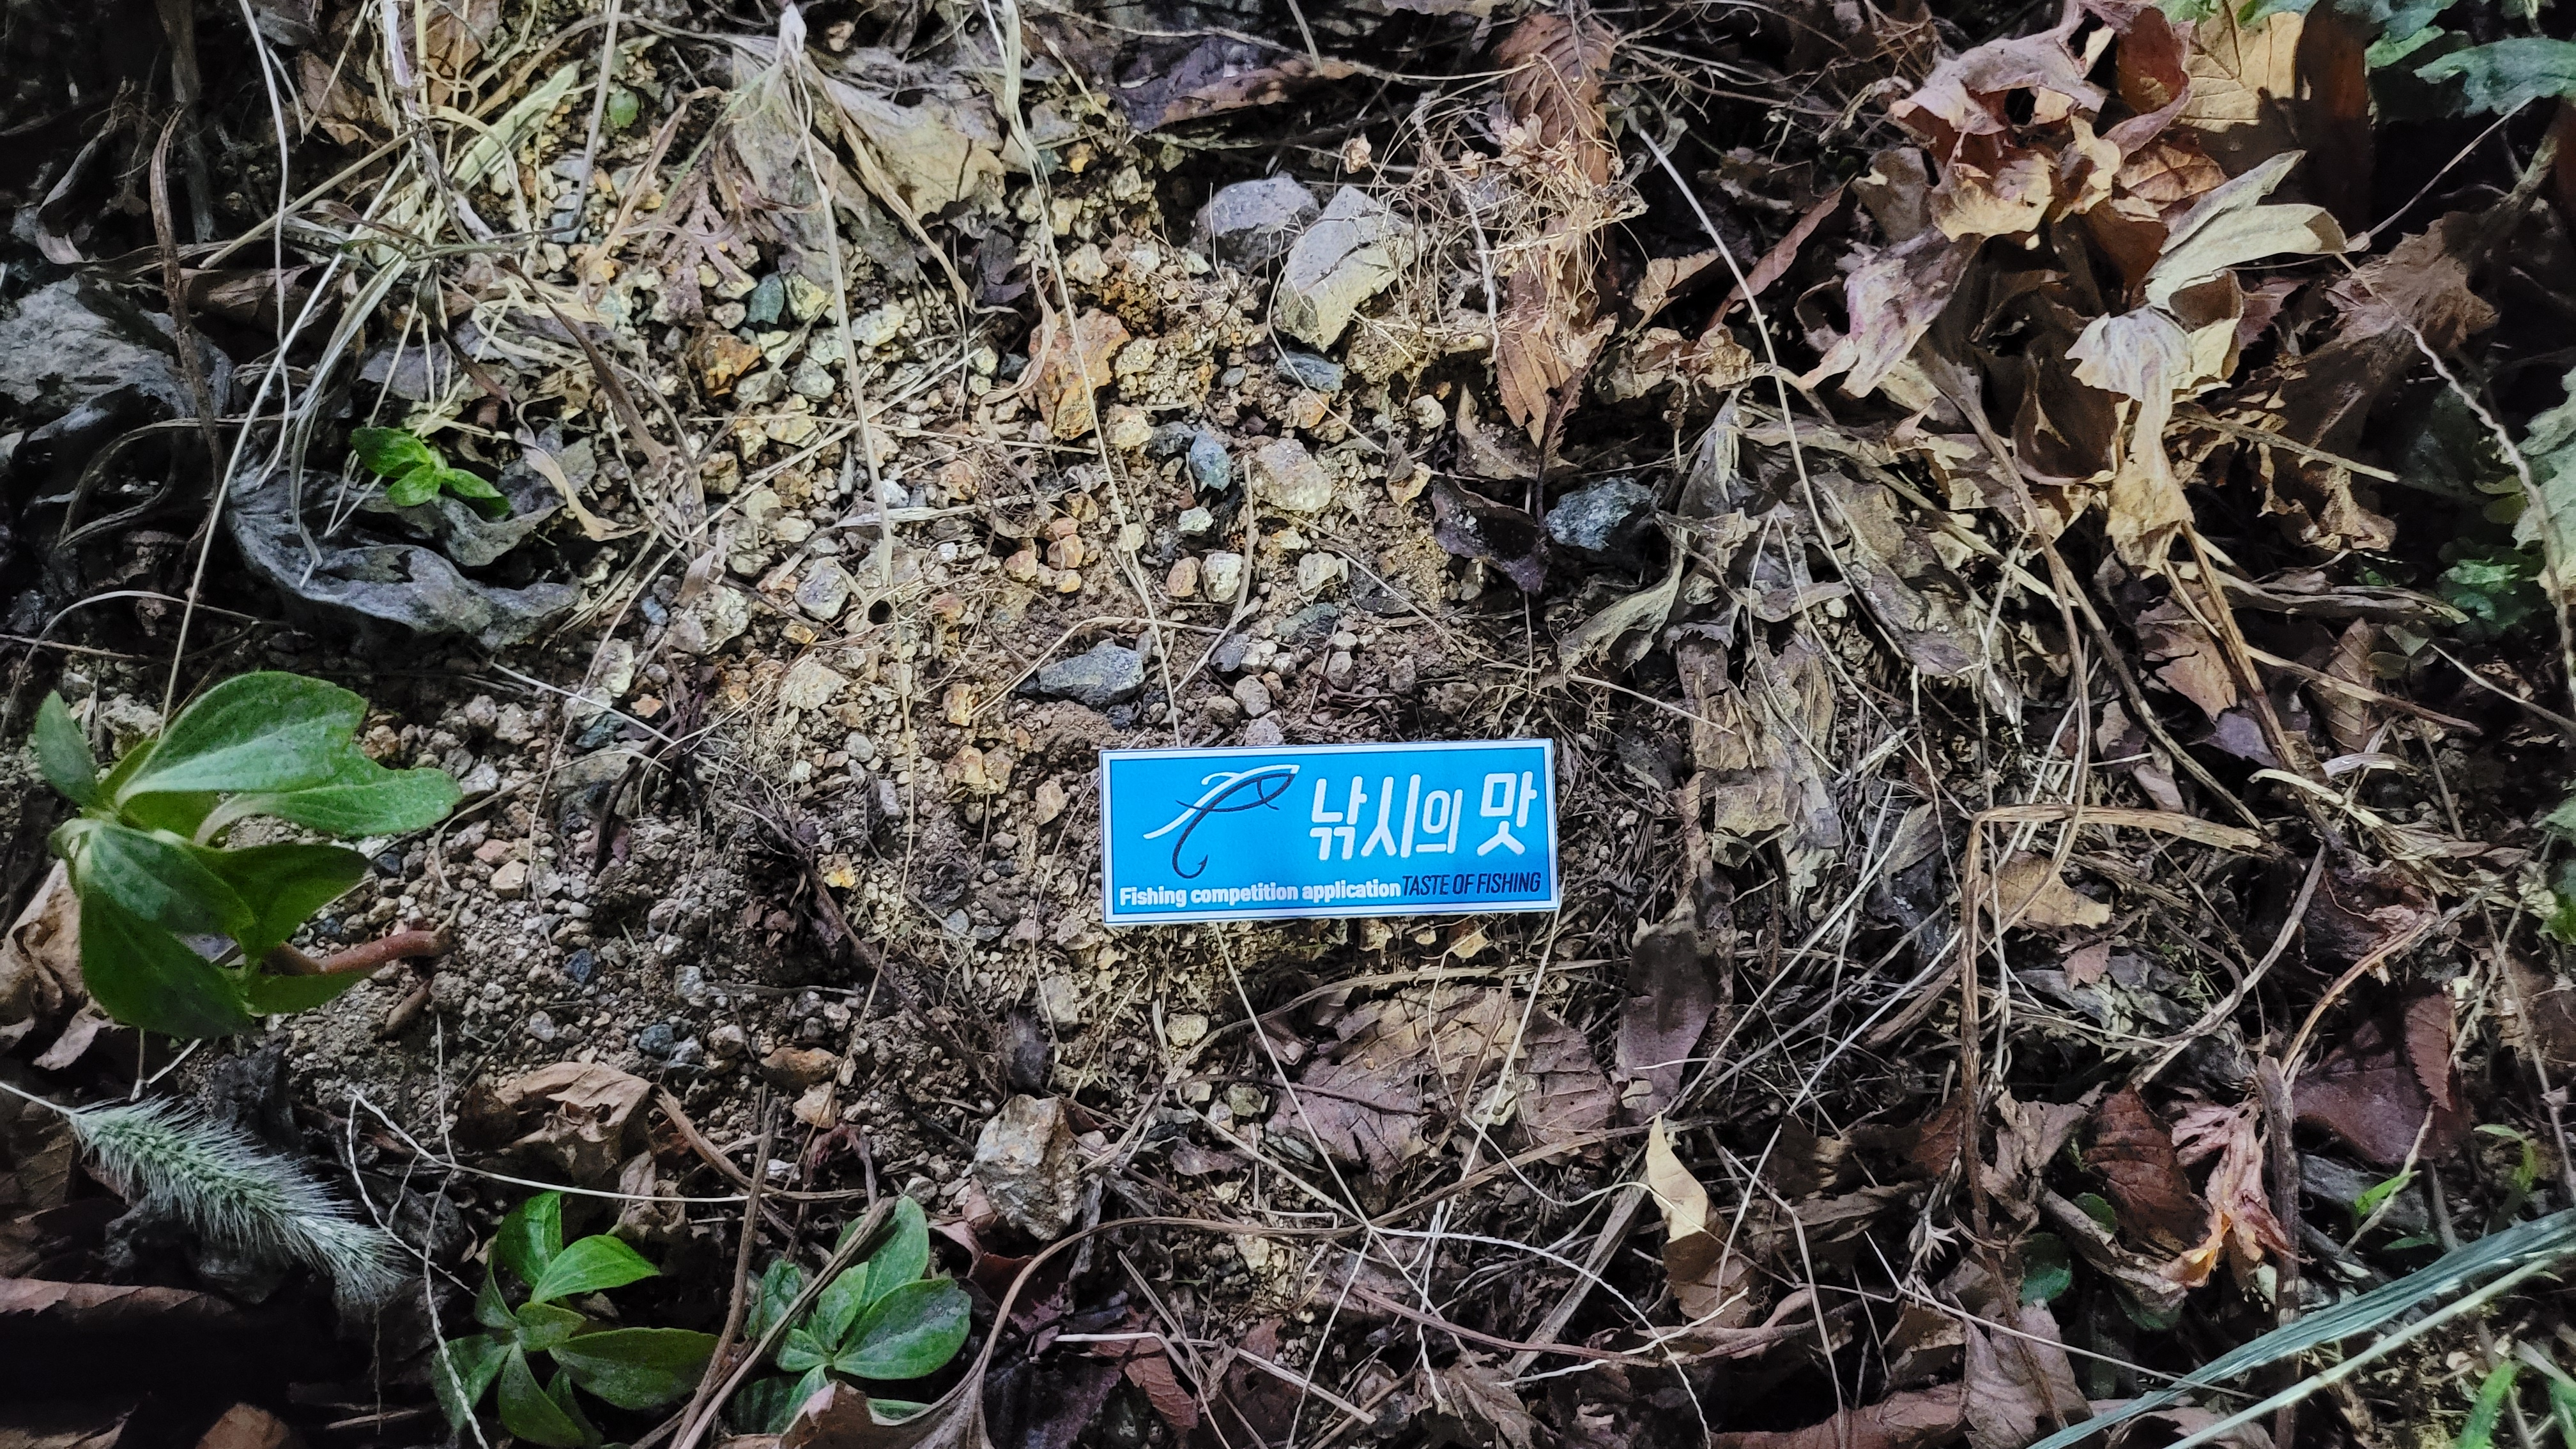tag: (1099, 748, 1559, 911)
